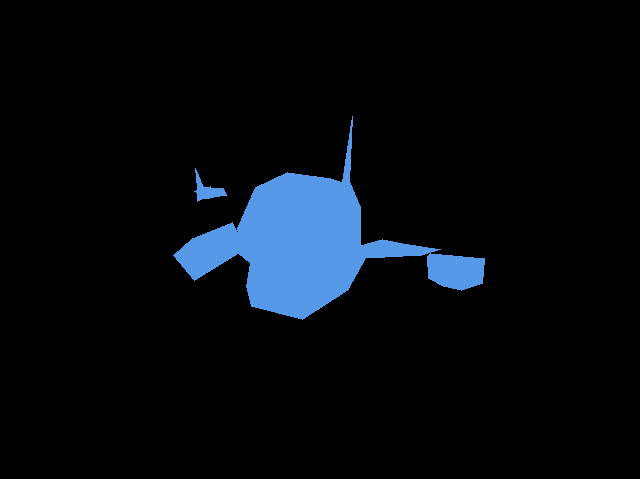Airplane: (173, 116, 485, 320), (194, 168, 227, 201)
